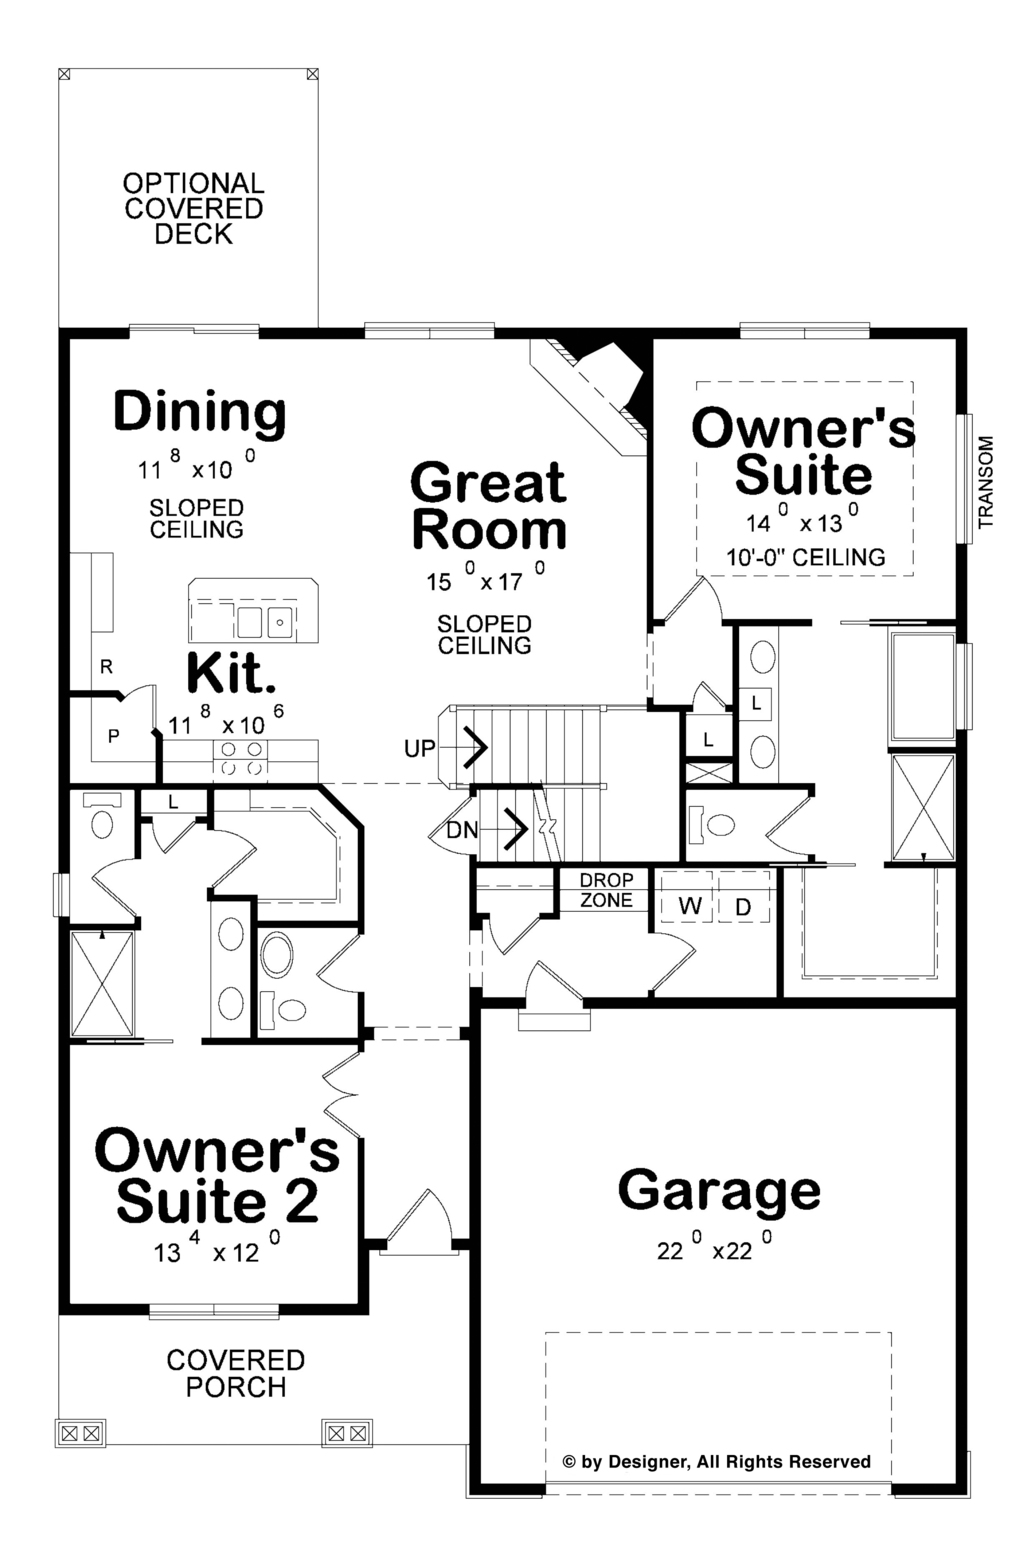door: (309, 1038, 363, 1160), (515, 955, 595, 1031), (386, 1192, 471, 1258), (200, 823, 267, 897), (637, 921, 693, 1003), (88, 858, 151, 931), (432, 775, 473, 875), (656, 581, 744, 626), (766, 789, 821, 862), (322, 933, 371, 1011), (483, 902, 542, 950), (688, 670, 742, 719), (122, 677, 165, 733), (144, 816, 195, 862)
kitchen_bar: (166, 543, 368, 662)
large_sink: (677, 794, 749, 880), (78, 792, 149, 853), (254, 987, 309, 1035)
small_sink: (731, 629, 786, 797), (198, 909, 249, 1050), (251, 928, 298, 982)
stairs: (422, 699, 678, 877)
twin_sink: (225, 589, 320, 643)
window: (137, 1287, 303, 1331), (363, 311, 503, 353), (122, 319, 283, 353), (947, 409, 978, 577), (727, 323, 875, 345)
